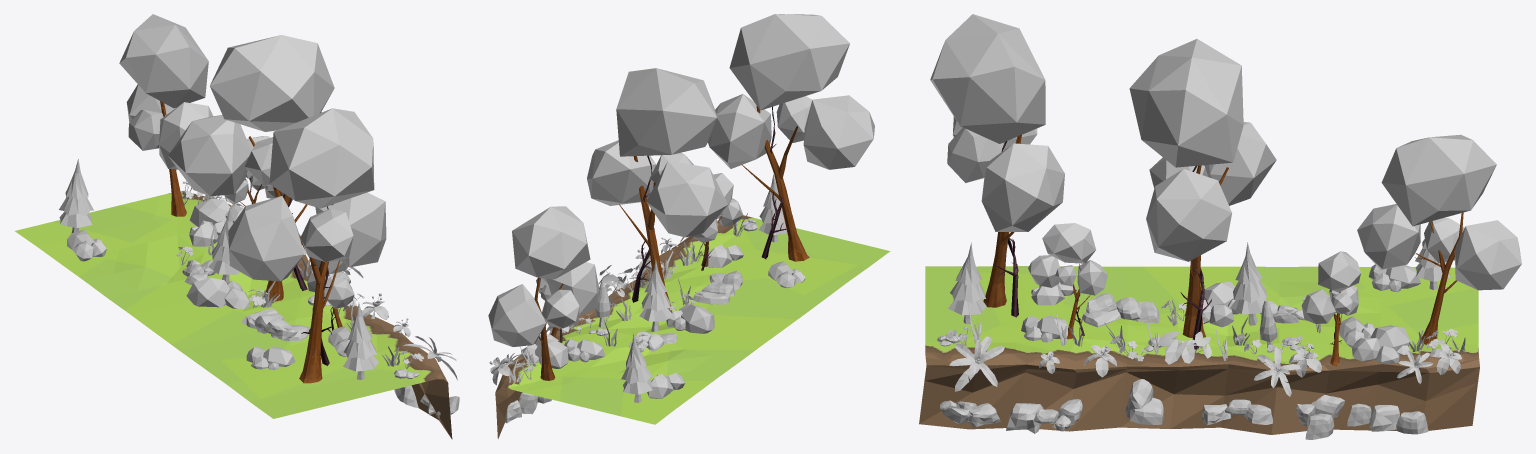
Rendered from RightSide.FBX.
3 views of the same model, side by side, from view 1: azimuth 30°, elevation 25°; view 2: azimuth 150°, elevation 25°; view 3: azimuth 270°, elevation 25° (orthographic). The views are drawn at different scales.
Parts seen in each view (by area): view 1: G_01_00, Tree_Leave_01_00, Tree_Leave_01_01, Tree_Leave_01_06, Trees_01_05, G_Tree_Leave_01_00, Tree_S_06_00, Tree_S_06_02, Tree_Leave_01_08, G_Tree_Leave_01_04, Tree_S_06_01, G_Tree_Leave_01_02 (+9 smaller); view 2: G_01_00, Tree_Leave_01_00, Tree_Leave_01_01, Tree_Leave_01_06, Trees_01_05, Tree_S_06_01, Tree_S_06_02, Tree_Leave_01_08, G_Tree_Leave_01_00, Trees_01_06, G_Tree_Leave_01_04, Tree_S_06_00 (+11 smaller); view 3: G_01_00, Tree_Leave_01_01, Tree_Leave_01_00, Tree_Leave_01_06, Tree_Leave_01_08, Tree_Leave_01_07, Rock_01_07, G_Tree_Leave_01_04, Tree_S_06_01, Tree_S_06_00, Tree_S_04_00, Rock_01_08 (+20 smaller).
Part boxes in pixels (<box>): G_01_00: <box>15,191,452,439</box>; Tree_Leave_01_00: <box>228,108,386,281</box>; Tree_Leave_01_01: <box>168,35,334,196</box>; Tree_Leave_01_06: <box>119,14,212,169</box>; Trees_01_05: <box>299,204,340,383</box>; G_Tree_Leave_01_00: <box>186,277,249,309</box>; Tree_S_06_00: <box>343,302,378,379</box>; Tree_S_06_02: <box>59,159,93,232</box>; Tree_Leave_01_08: <box>307,258,354,308</box>; G_Tree_Leave_01_04: <box>190,198,243,226</box>; Tree_S_06_01: <box>208,207,239,283</box>; G_Tree_Leave_01_02: <box>246,346,295,370</box>; G_01_00: <box>495,215,890,438</box>; Tree_Leave_01_00: <box>708,14,874,169</box>; Tree_Leave_01_01: <box>587,68,727,237</box>; Tree_Leave_01_06: <box>488,206,599,346</box>; Trees_01_05: <box>742,106,809,261</box>; Tree_S_06_01: <box>639,259,672,331</box>; Tree_S_06_02: <box>621,332,652,402</box>; Tree_Leave_01_08: <box>692,173,743,242</box>; G_Tree_Leave_01_00: <box>666,303,714,333</box>; Trees_01_06: <box>619,156,671,312</box>; G_Tree_Leave_01_04: <box>521,334,568,368</box>; Tree_S_06_00: <box>759,174,787,242</box>; G_01_00: <box>919,266,1479,434</box>; Tree_Leave_01_01: <box>1129,39,1276,261</box>; Tree_Leave_01_00: <box>930,14,1064,231</box>; Tree_Leave_01_06: <box>1357,134,1521,290</box>; Tree_Leave_01_08: <box>1028,223,1107,295</box>; Tree_Leave_01_07: <box>1301,251,1360,323</box>; Rock_01_07: <box>1006,399,1082,433</box>; G_Tree_Leave_01_04: <box>1351,325,1410,363</box>; Tree_S_06_01: <box>1230,242,1270,325</box>; Tree_S_06_00: <box>948,242,986,323</box>; Tree_S_04_00: <box>949,336,1004,391</box>; Rock_01_08: <box>1125,379,1163,424</box>.
Bounding box in the file's own units: 173 × 237 × 371.
